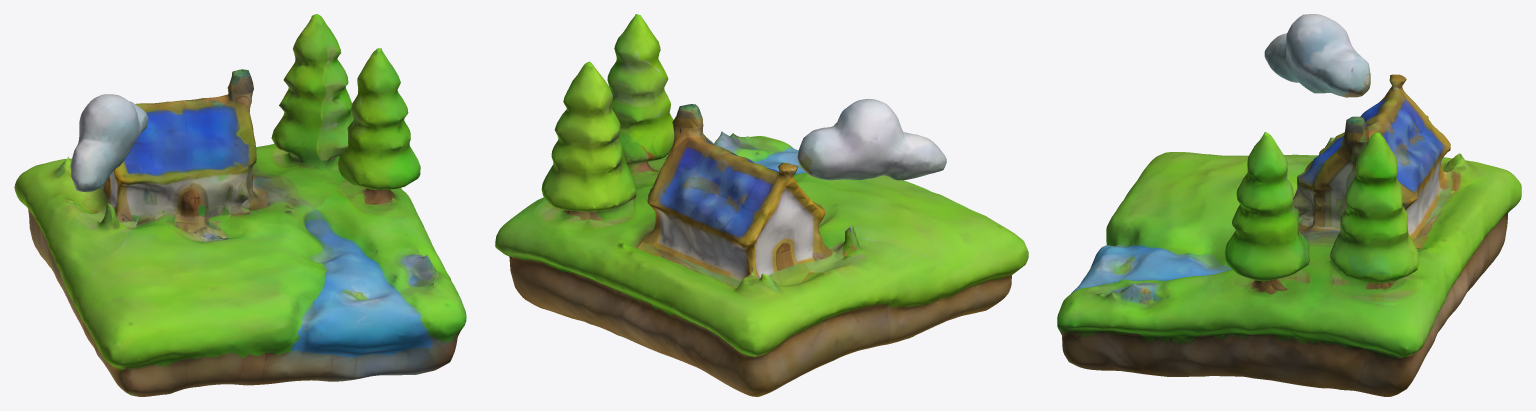
Rendered from solar-panel.glb.
3 views of the same model, side by side, from view 1: azimuth 30°, elevation 25°; view 2: azimuth 150°, elevation 25°; view 3: azimuth 270°, elevation 25° (orthographic). The views are drawn at different scales.
Bounding box in the file's own units: 1.18 × 0.7628 × 1.2.
1 material, 1 textured.
